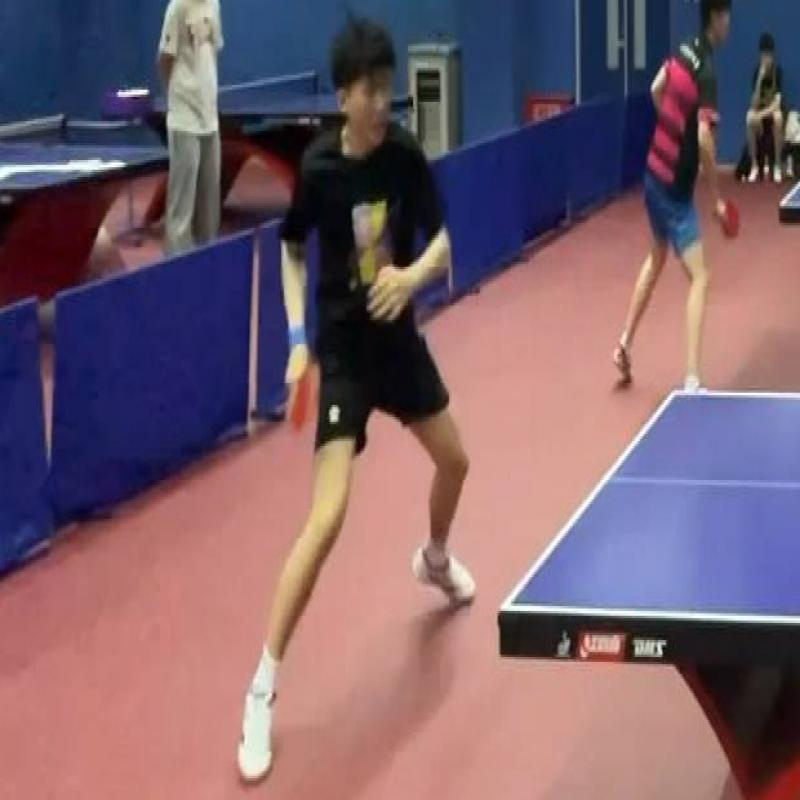bats: (278, 359, 318, 441)
